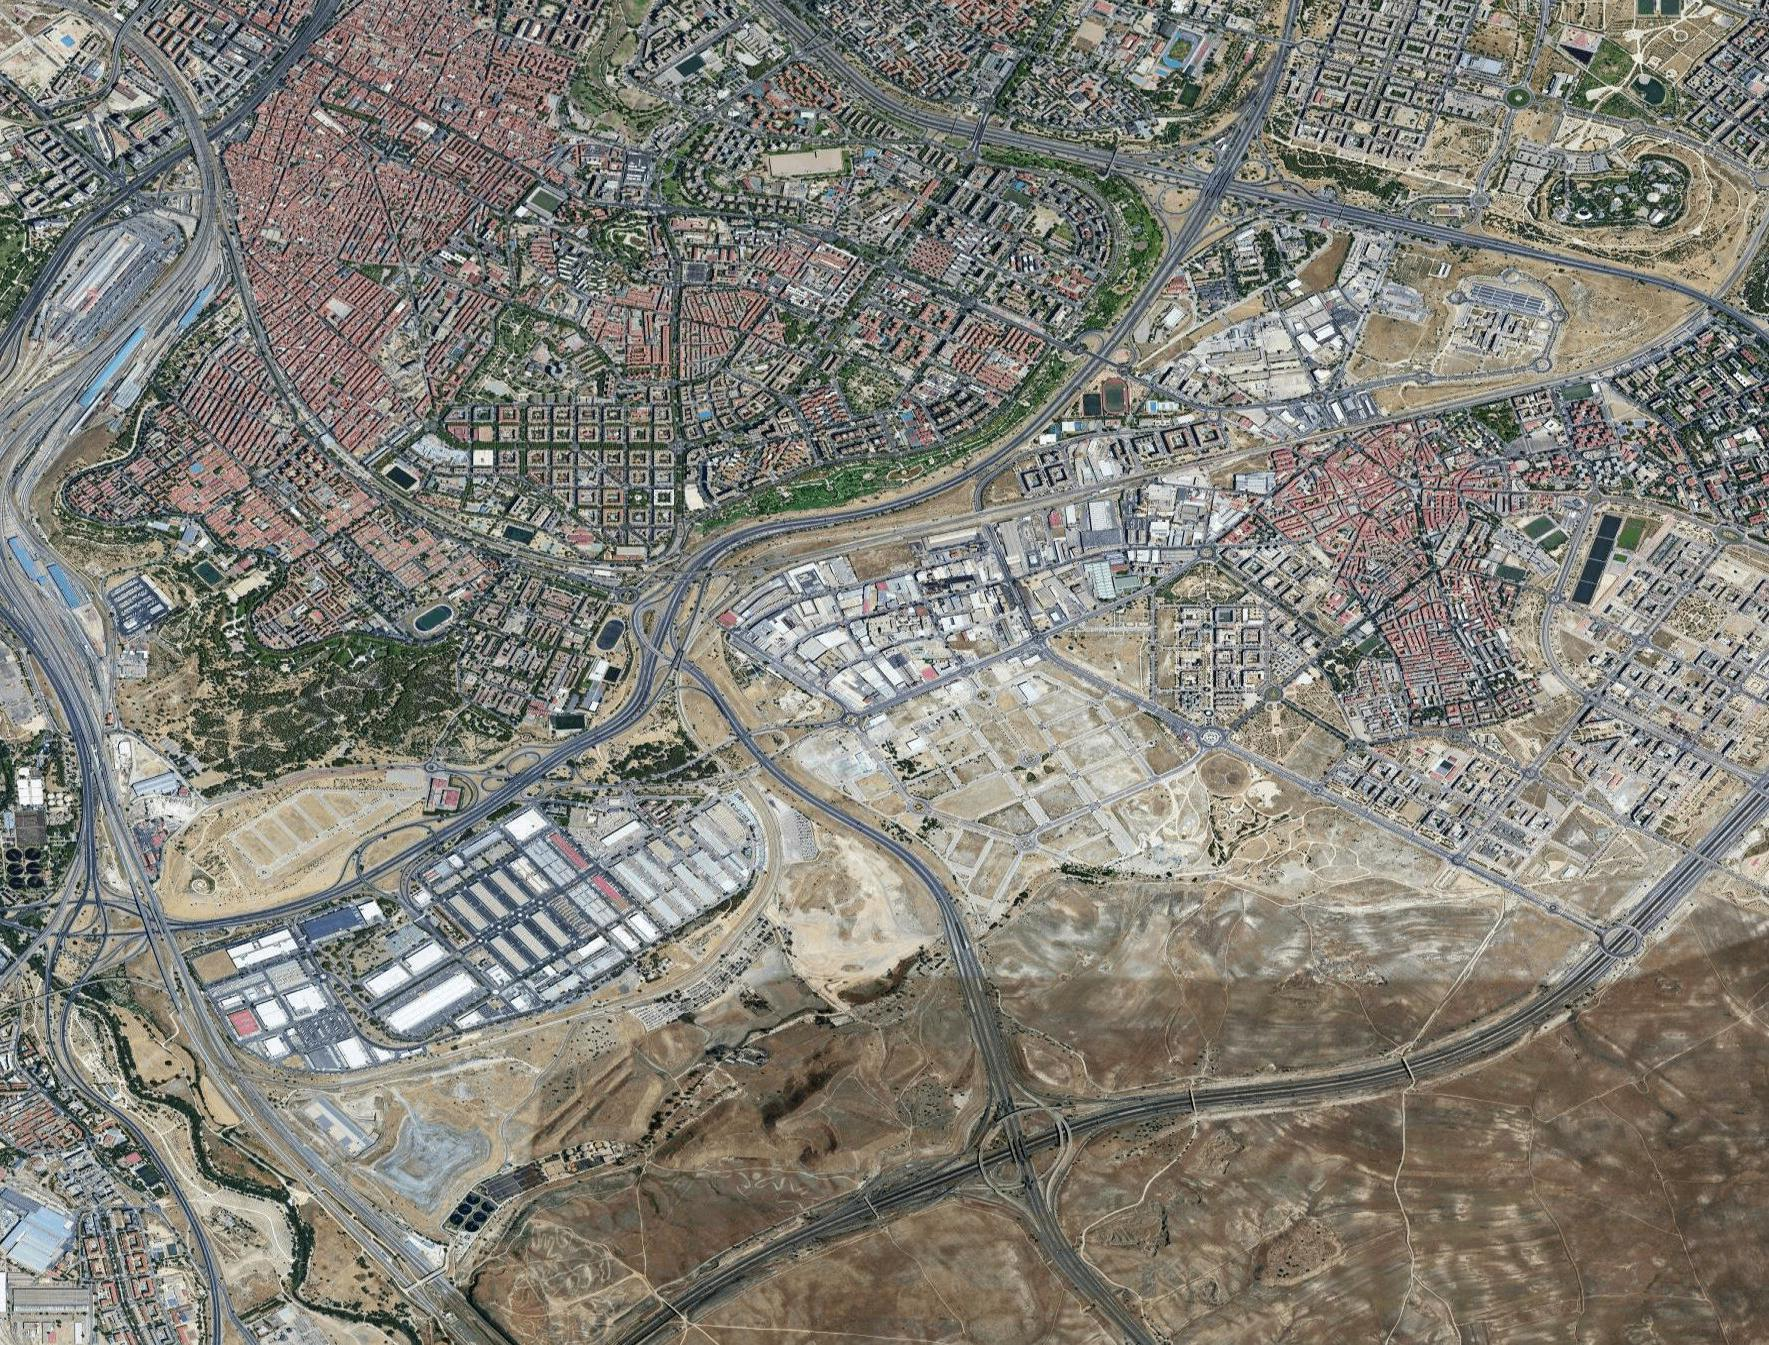industrial: (235, 791, 740, 1079), (769, 470, 1214, 698)
motorway: (1512, 777, 1769, 1024), (617, 1173, 935, 1345), (938, 1070, 1221, 1185), (1012, 1183, 1177, 1345), (1224, 1021, 1506, 1116), (757, 740, 931, 884), (625, 624, 759, 737), (637, 510, 771, 623), (803, 455, 983, 534), (925, 879, 1000, 1070), (1105, 213, 1208, 350), (985, 346, 1101, 466), (495, 713, 633, 807), (1376, 205, 1554, 275), (1549, 247, 1727, 318), (1198, 153, 1376, 222), (1014, 122, 1193, 191), (356, 800, 493, 884), (863, 81, 1017, 155), (746, 1, 866, 89), (205, 877, 355, 937), (1243, 1, 1301, 136), (81, 162, 151, 220), (157, 1161, 203, 1246), (219, 68, 280, 131), (99, 1098, 158, 1161), (42, 1037, 102, 1101), (153, 123, 225, 175), (69, 829, 105, 934), (40, 931, 73, 1036), (280, 1, 332, 66), (32, 219, 81, 290), (68, 745, 97, 831), (201, 1246, 226, 1345), (1, 292, 37, 356)
train_station: (1, 186, 177, 411)
